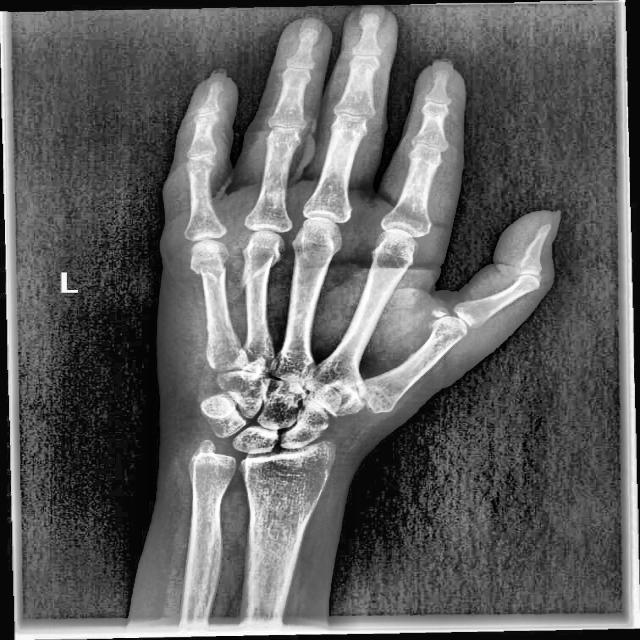fracture: (186, 256, 236, 293), (240, 249, 278, 290), (415, 333, 445, 356)
